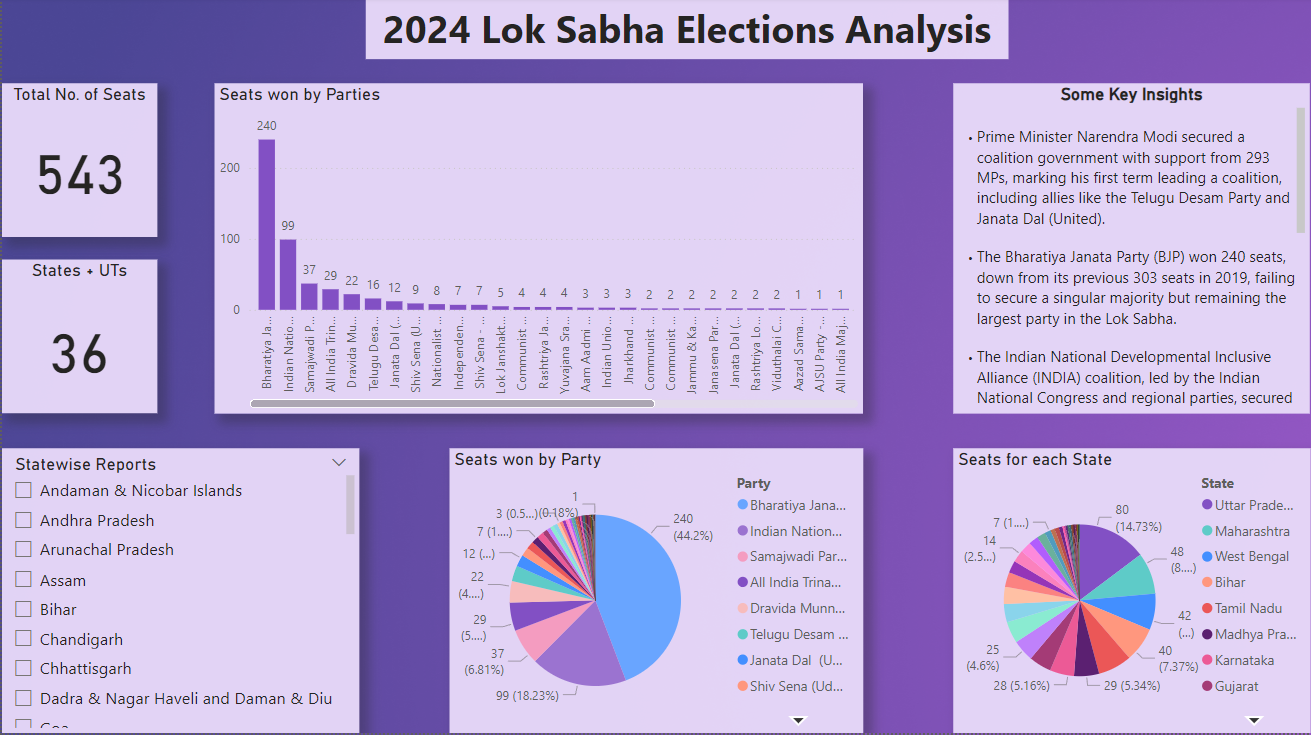

Layout of this report page (visuals, bound fields, positions):
{"tool":"powerbi","page":{"name":"Page 1","canvas":[1280,720],"ordinal":0},"visuals":[{"type":"pieChart","title":"Seats won by Party","fields":{"Category":["statewise-elections (2).Party"],"Y":["statewise-elections (2).Won"]},"box":[437.8,441.4,404.8,278.8],"z":0},{"type":"slicer","fields":{"Values":["statewise-elections.State"]},"box":[0,441.4,349.7,278.8],"z":1000},{"type":"textbox","box":[355.8,0,628.5,61.1],"z":2000},{"type":"card","title":"Total No. of Seats","fields":{"Values":["statewise-elections.Total"]},"box":[0,84.4,151.6,150.4],"z":3000},{"type":"card","title":"States + UTs","fields":{"Values":["statewise-elections.State"]},"box":[0,256.8,151.6,150.4],"z":4000},{"type":"clusteredColumnChart","title":"Seats won by Parties","fields":{"Category":["statewise-elections (2).Party"],"Y":["statewise-elections (2).Won"]},"box":[207.9,84.4,634.7,322.8],"z":5000},{"type":"pieChart","title":"Seats for each State","fields":{"Category":["statewise-elections.State"],"Y":["statewise-elections.Total"]},"box":[930.6,441.4,349.7,278.8],"z":6000},{"type":"textbox","title":"Some Key Insights","box":[931,84,349,323],"z":6001}]}

Visuals, with their boxes in screenshot pixels (x1, y1, x2, y2), scaled from the page's 1280x720 canvas onto the 1311x735 screenshot:
"Seats won by Party" pieChart: x1=448 y1=451 x2=863 y2=734
slicer - statewise-elections.State: x1=0 y1=451 x2=358 y2=734
textbox: x1=364 y1=0 x2=1008 y2=62
"Total No. of Seats" card: x1=0 y1=86 x2=155 y2=240
"States + UTs" card: x1=0 y1=262 x2=155 y2=416
"Seats won by Parties" clusteredColumnChart: x1=213 y1=86 x2=863 y2=416
"Seats for each State" pieChart: x1=953 y1=451 x2=1310 y2=734
"Some Key Insights" textbox: x1=954 y1=86 x2=1310 y2=415
